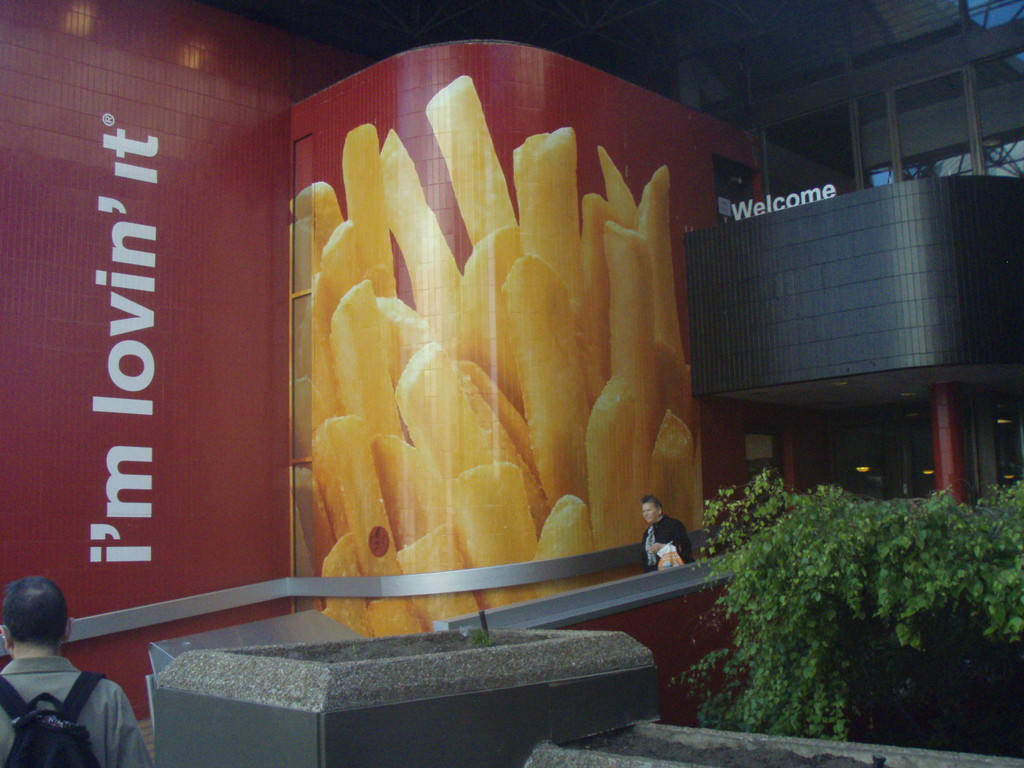French fries: (286, 75, 699, 636)
